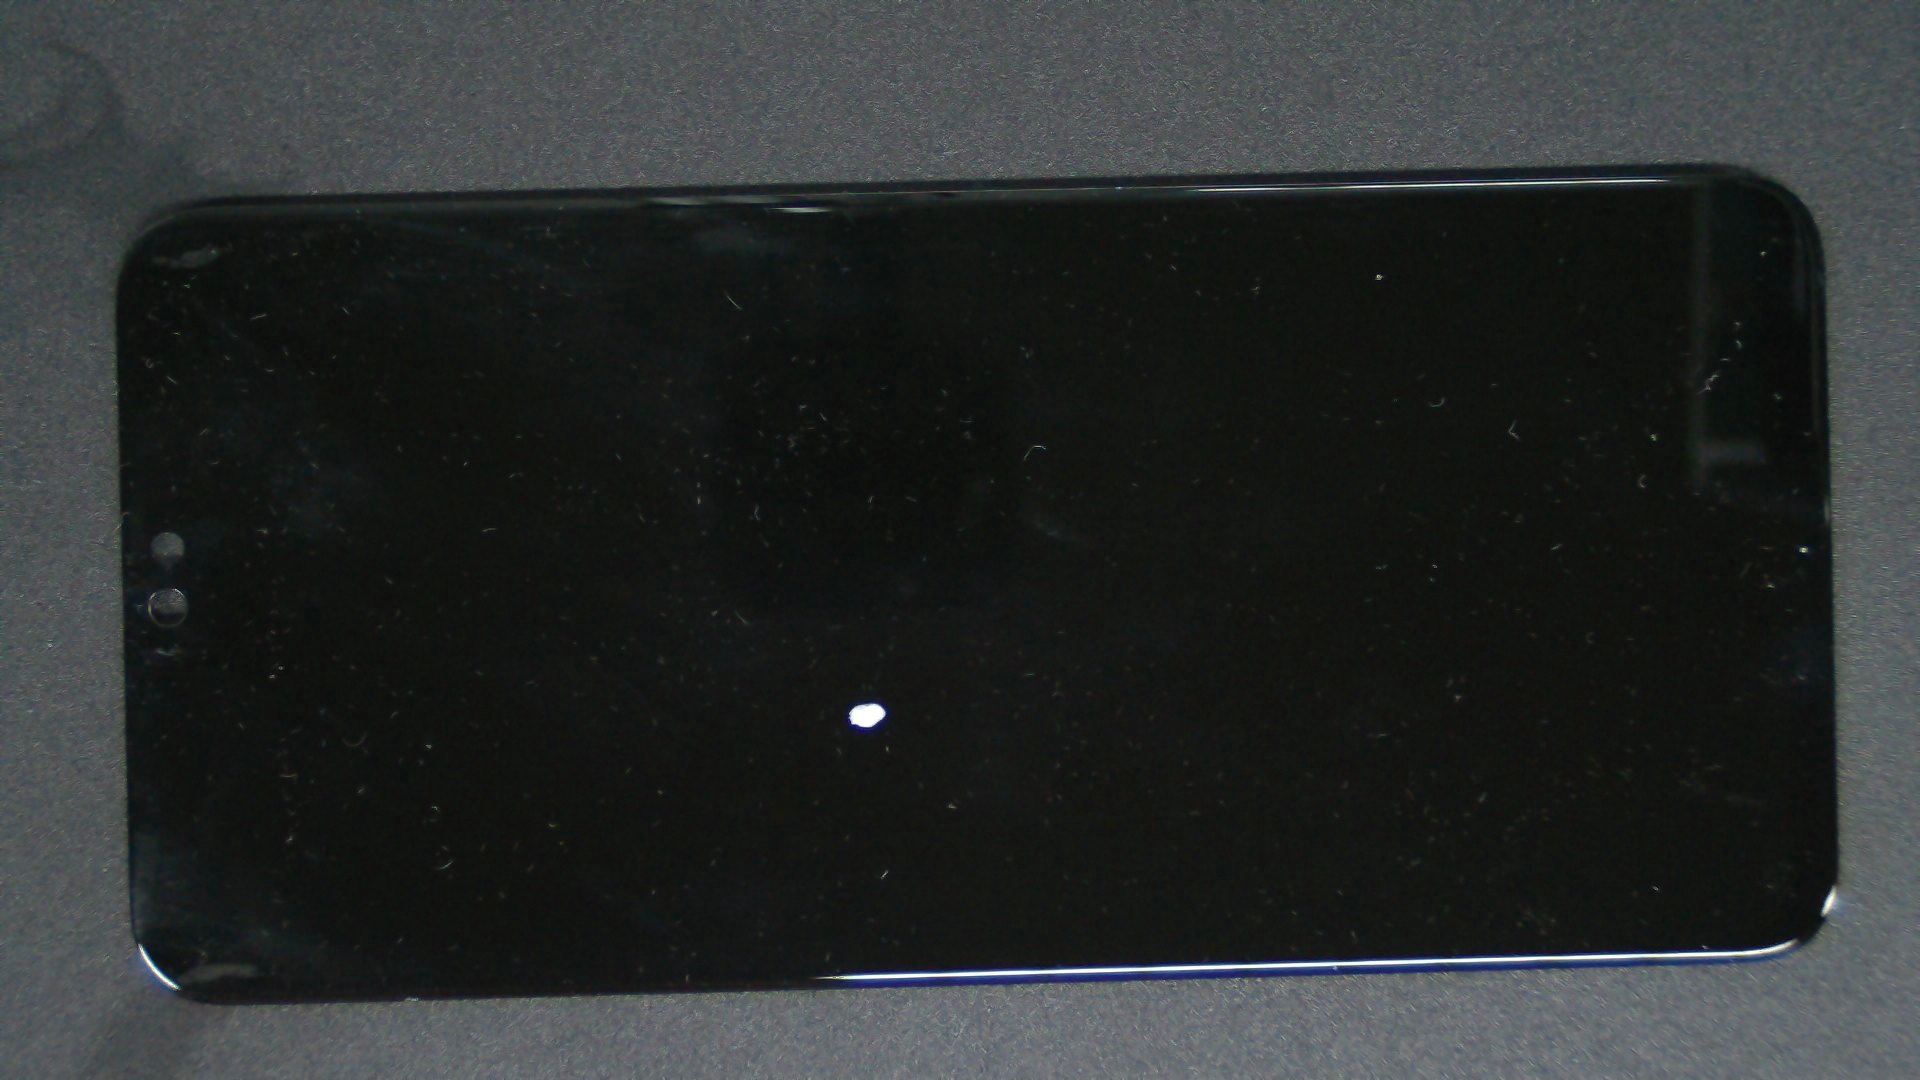oil: (433, 351, 1298, 1054)
